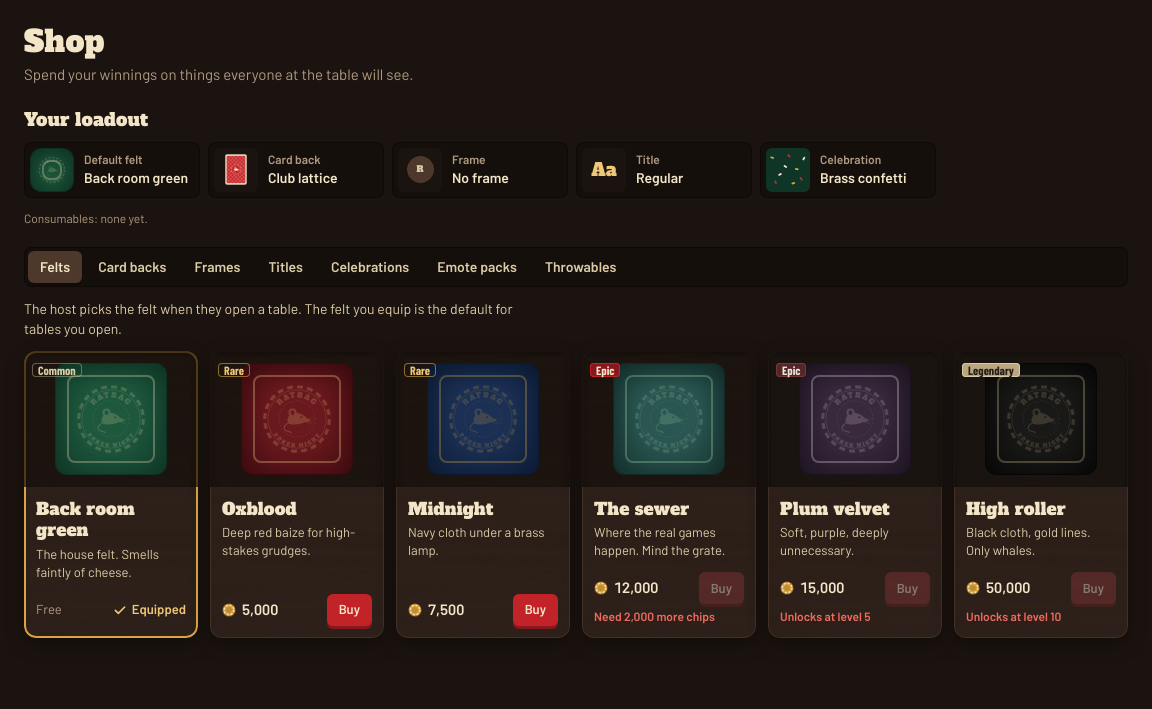
Scenario: ShopScreen › shows an earned achievement title in the loadout, and no shop title as equipped
The image size is (1152, 709).
Expected: the button with aria-label "Title: Regular. Browse titles." is shown, [576,142,752,198]
Click the tab "Titles" at (286, 267), box [256,251,315,283]
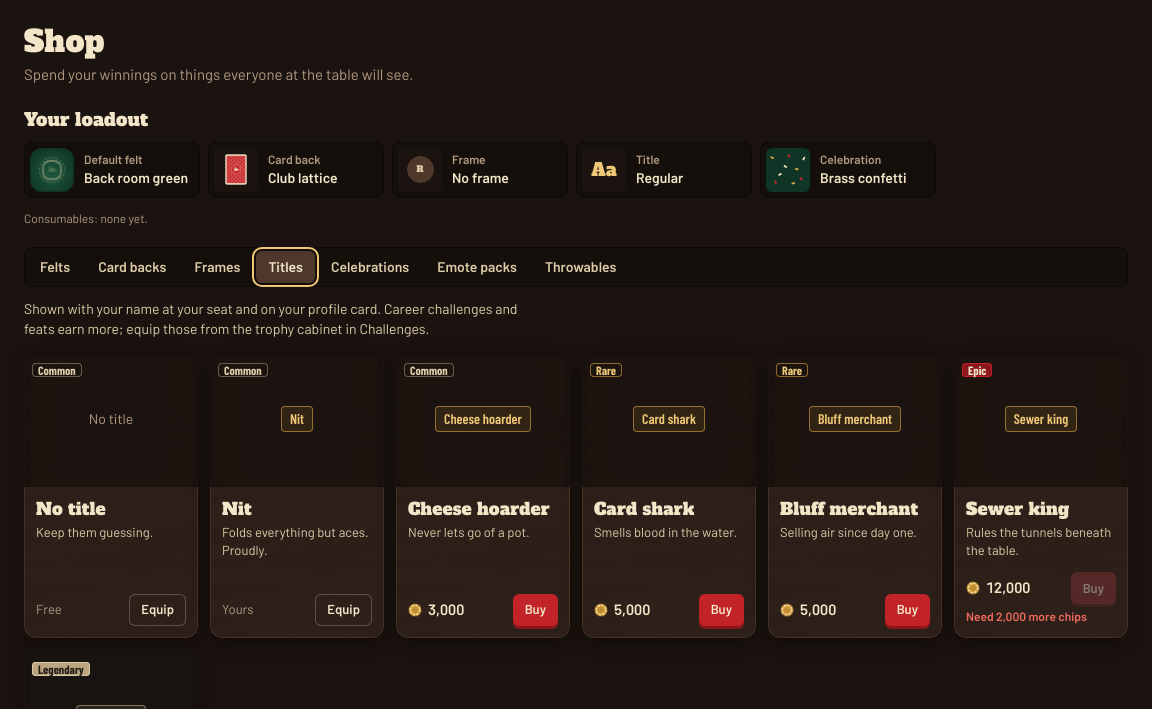
Result: the text "Equipped" is gone
Result: the button "Equip" next to "Yours" is shown at [315,594,372,626]
